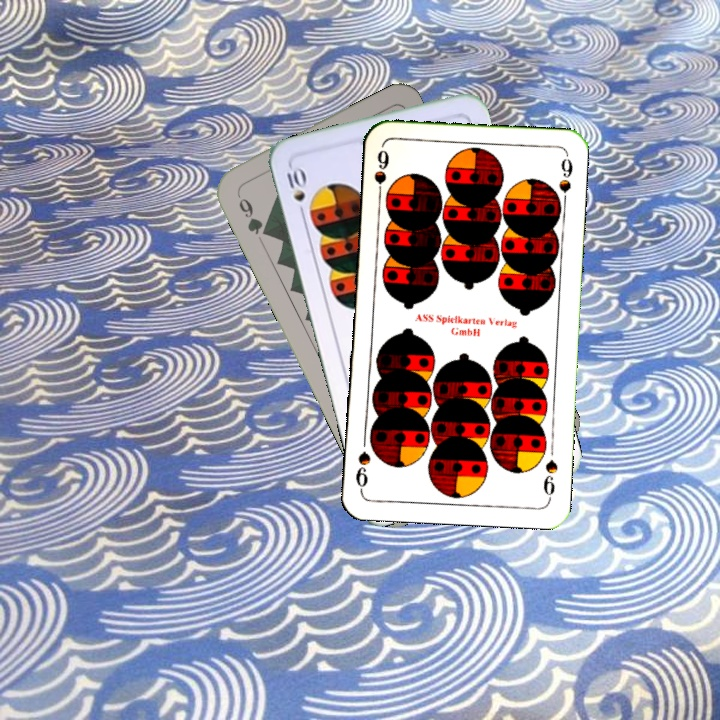G9: (232, 188, 272, 239)
S10: (282, 162, 308, 221)
S9: (370, 146, 392, 204), (539, 455, 560, 503)
